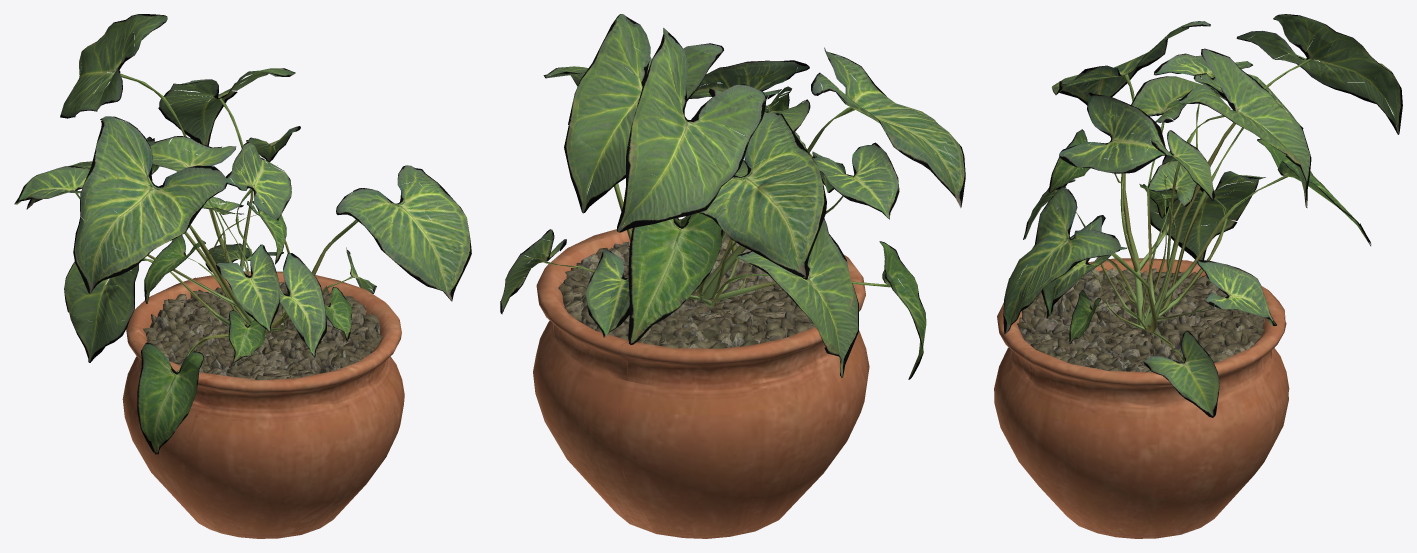
Rendered from plant_low.glb.
3 renders of one model, left to right at view 1: azimuth 30°, elevation 25°; view 2: azimuth 150°, elevation 25°; view 3: azimuth 270°, elevation 25°, orthographic. The views are drawn at different scales.
Visible parts, largest first — view 1: plant_low; view 2: plant_low; view 3: plant_low.
Part boxes in pixels (box(x1,y1,x2,y2)): plant_low: box(14, 14, 471, 538); plant_low: box(500, 14, 965, 538); plant_low: box(994, 14, 1402, 538).
Size of the model in its own units: 0.7008 by 0.8416 by 0.657.
2 materials, 2 textured.
